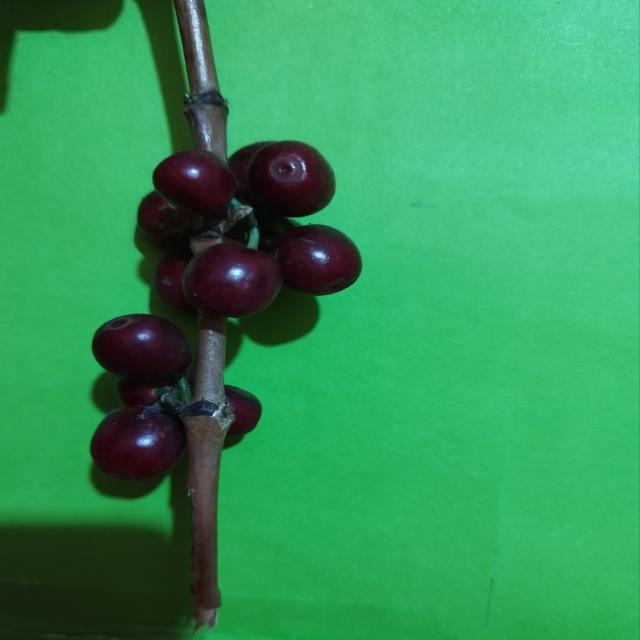Sano: (227, 141, 338, 221), (89, 401, 185, 481), (183, 243, 283, 318), (91, 314, 191, 385), (276, 226, 363, 298), (152, 152, 236, 217)
